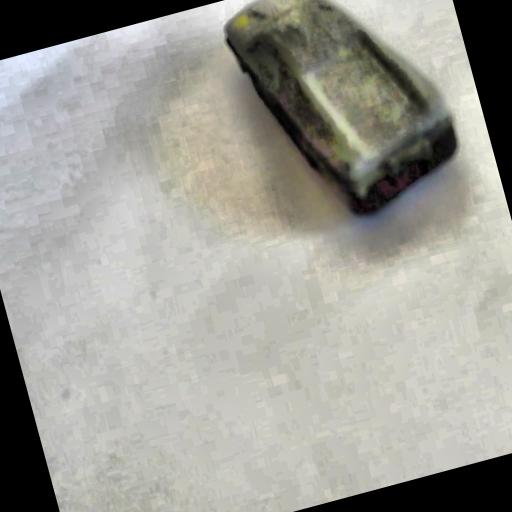normal_car: (207, 0, 473, 245)
